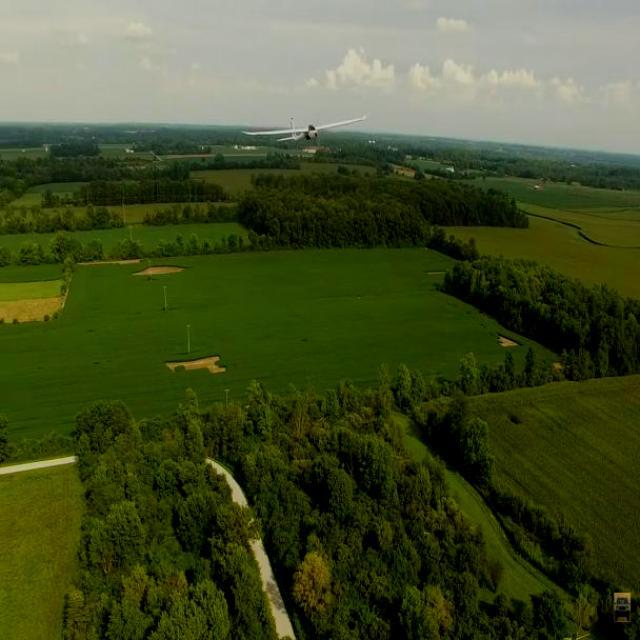iha: (239, 113, 368, 144)
